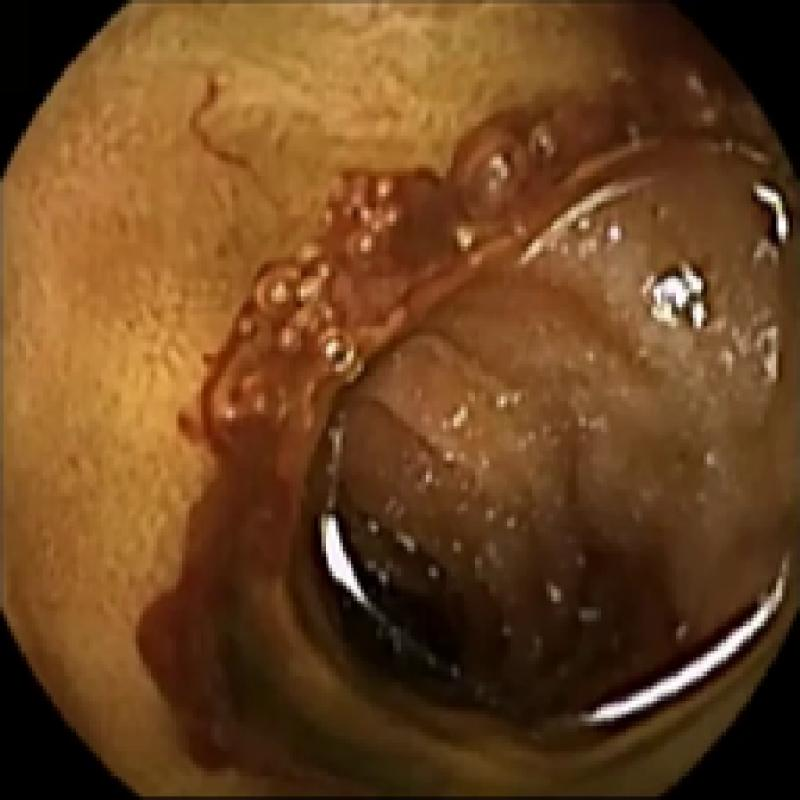bleeding: (132, 89, 747, 790)
